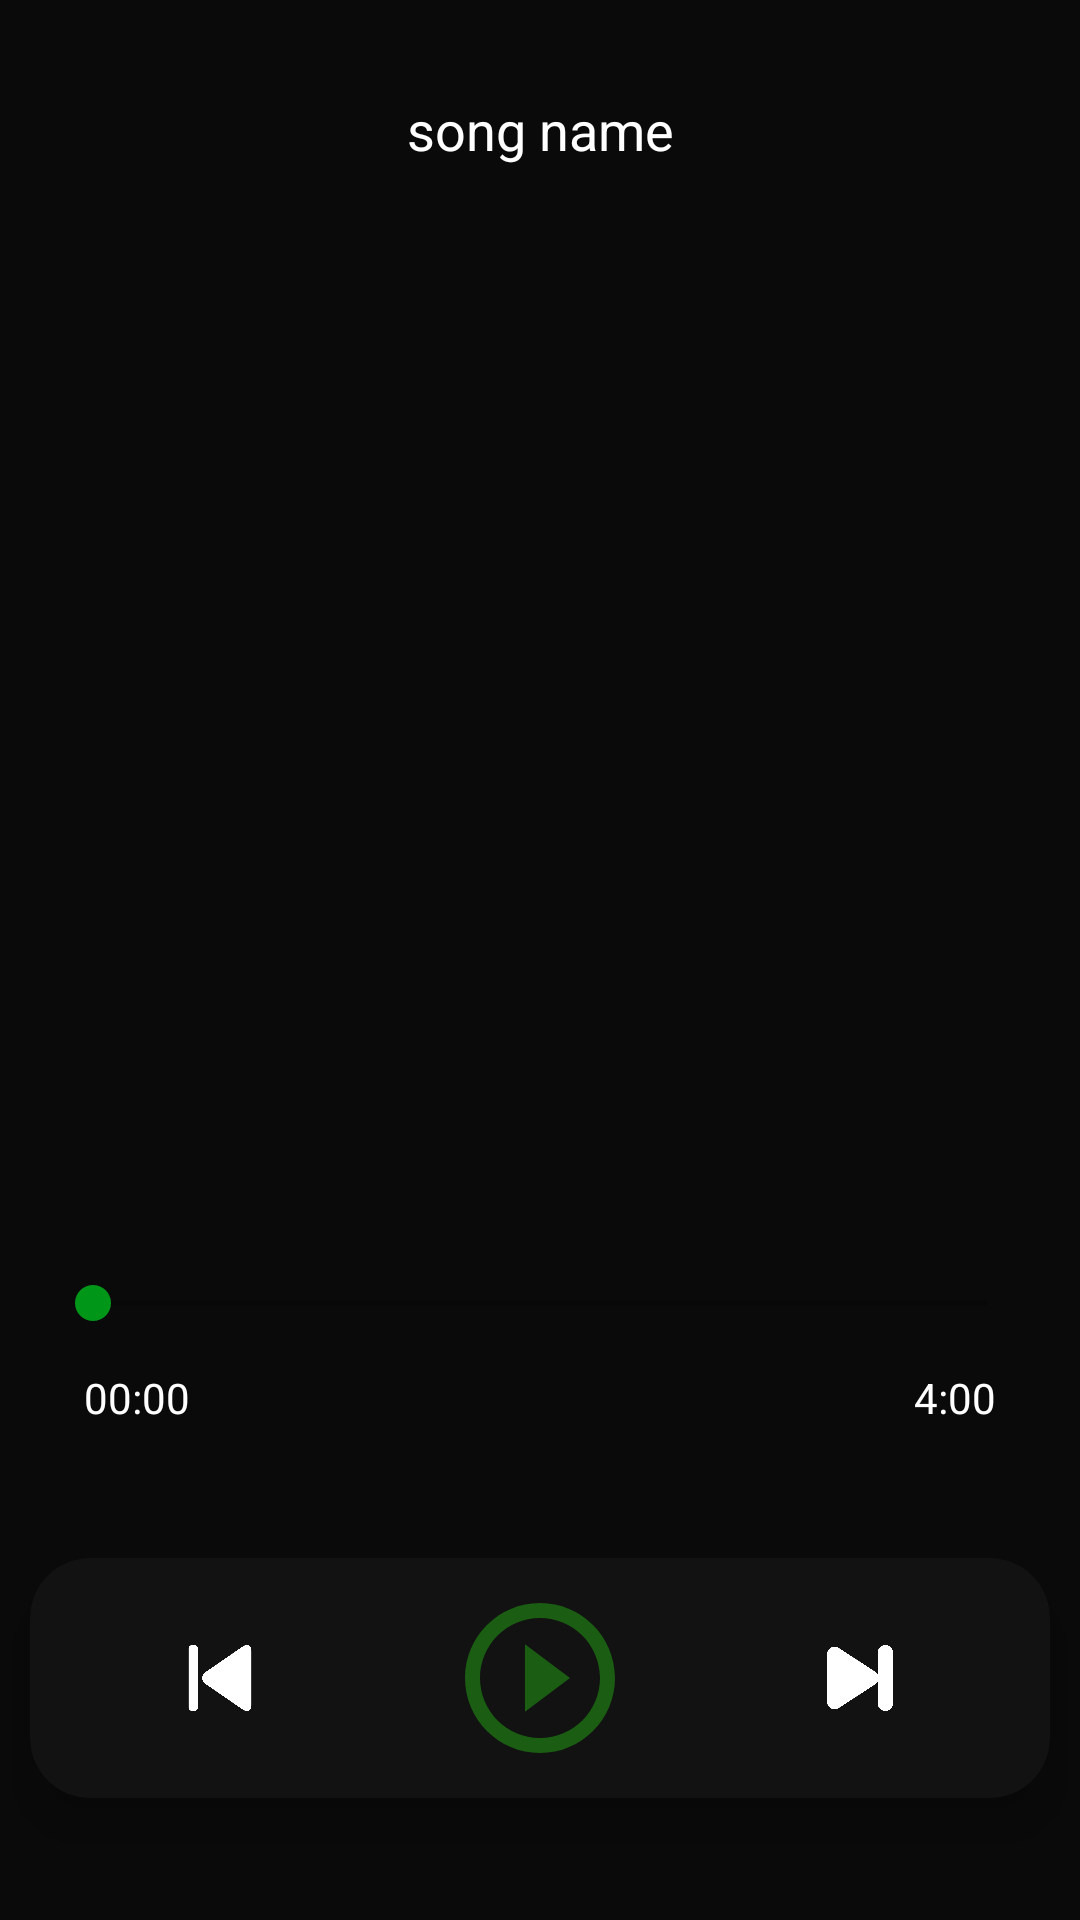

Named icons in this screenshot (1080px×1920px) and their centers, (x,y):
next: (860,1678)
play circle: (540,1678)
previous: (220,1678)
